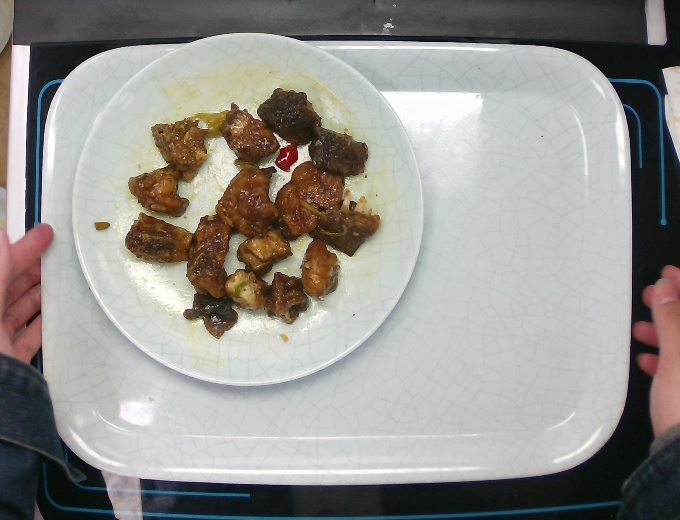JYsf-Da_Yuan_Pan: (69, 29, 428, 390)
